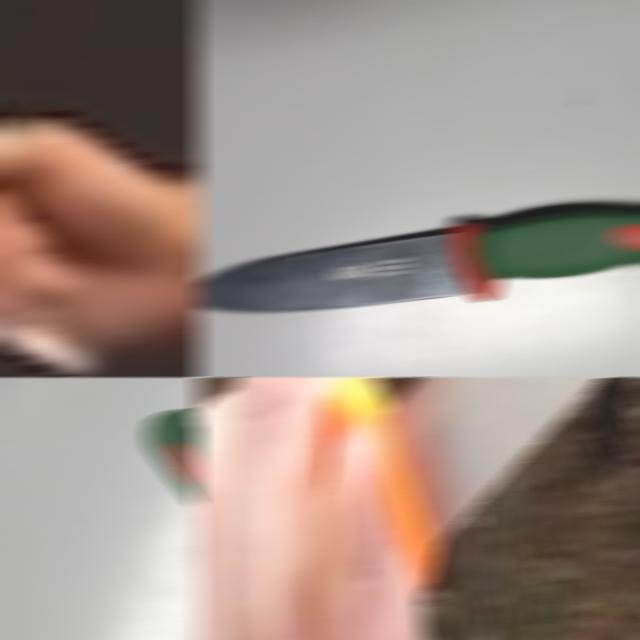Knife: (324, 377, 605, 589), (194, 202, 640, 311)
Knife_Handle: (0, 0, 190, 377)
